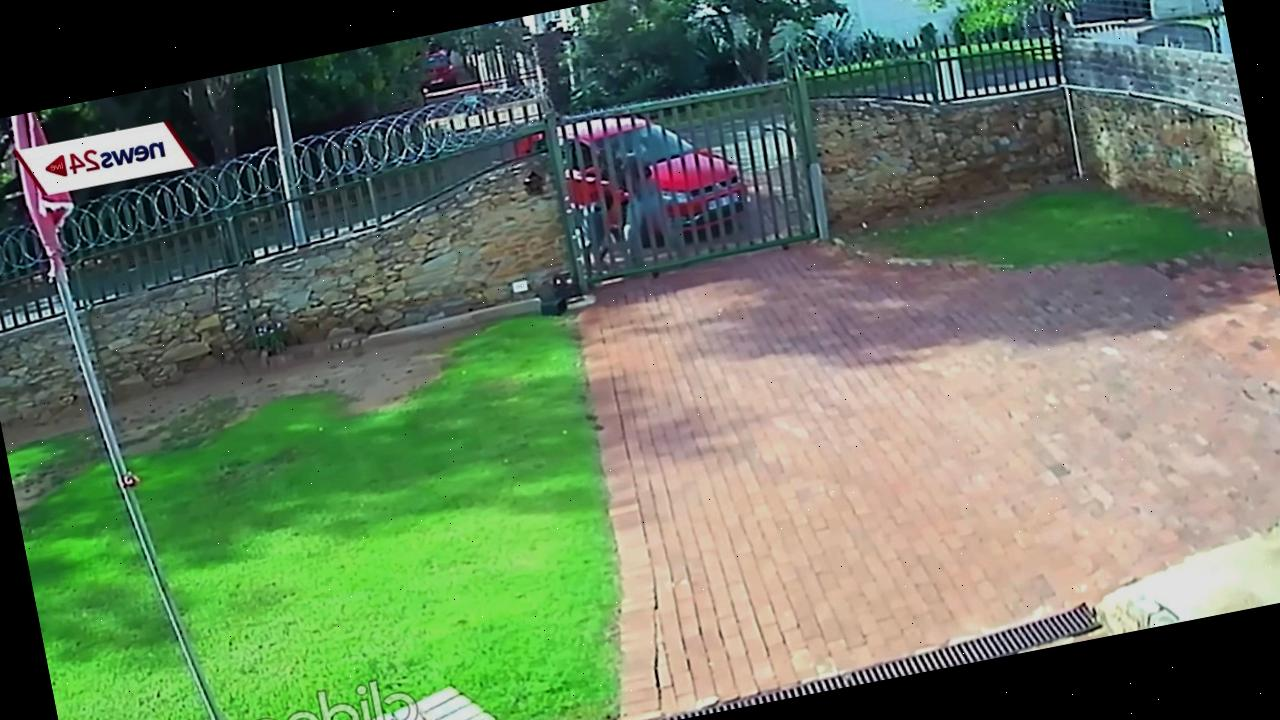suspicion: (598, 134, 684, 281)
